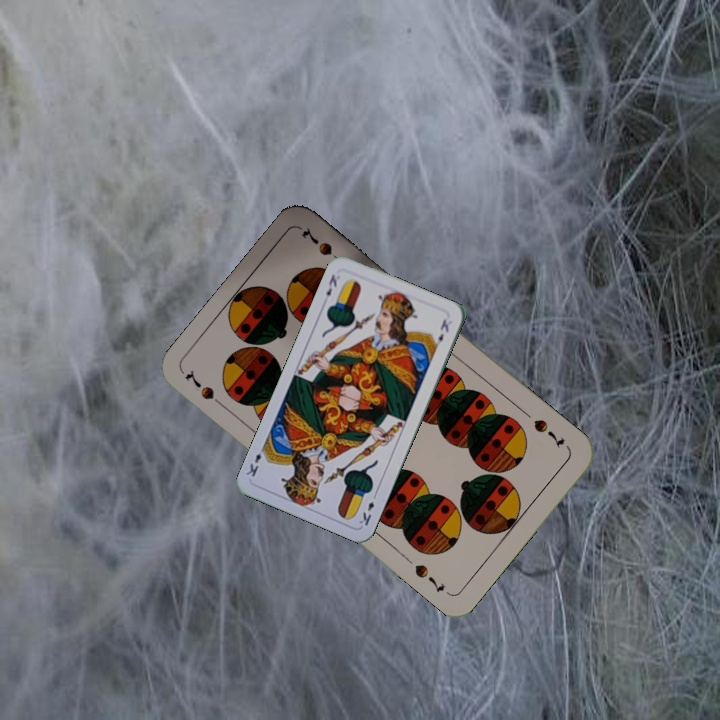EK: (355, 489, 379, 528), (322, 270, 340, 299)
S7: (181, 365, 229, 411), (529, 415, 567, 450)
